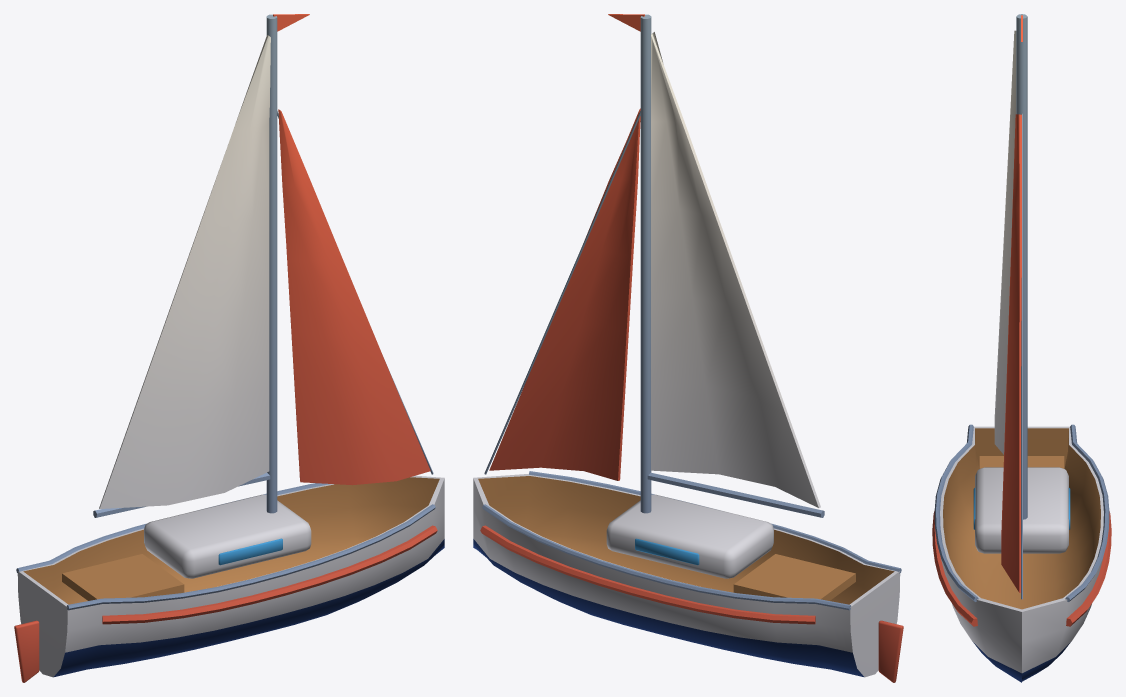
The model's file is sailboat.glb.
The picture shows the model from 3 angles, left to right: view 1: azimuth 30°, elevation 25°; view 2: azimuth 150°, elevation 25°; view 3: azimuth 270°, elevation 25°; orthographic projection.
Visible parts, largest first — view 1: sailboat; view 2: sailboat; view 3: sailboat.
Part boxes in pixels (x1=…): sailboat: x1=14, y1=14, x2=444, y2=682; sailboat: x1=473, y1=14, x2=903, y2=682; sailboat: x1=932, y1=14, x2=1111, y2=682.
Size of the model in its own units: 5.35 by 7.21 by 1.91.
